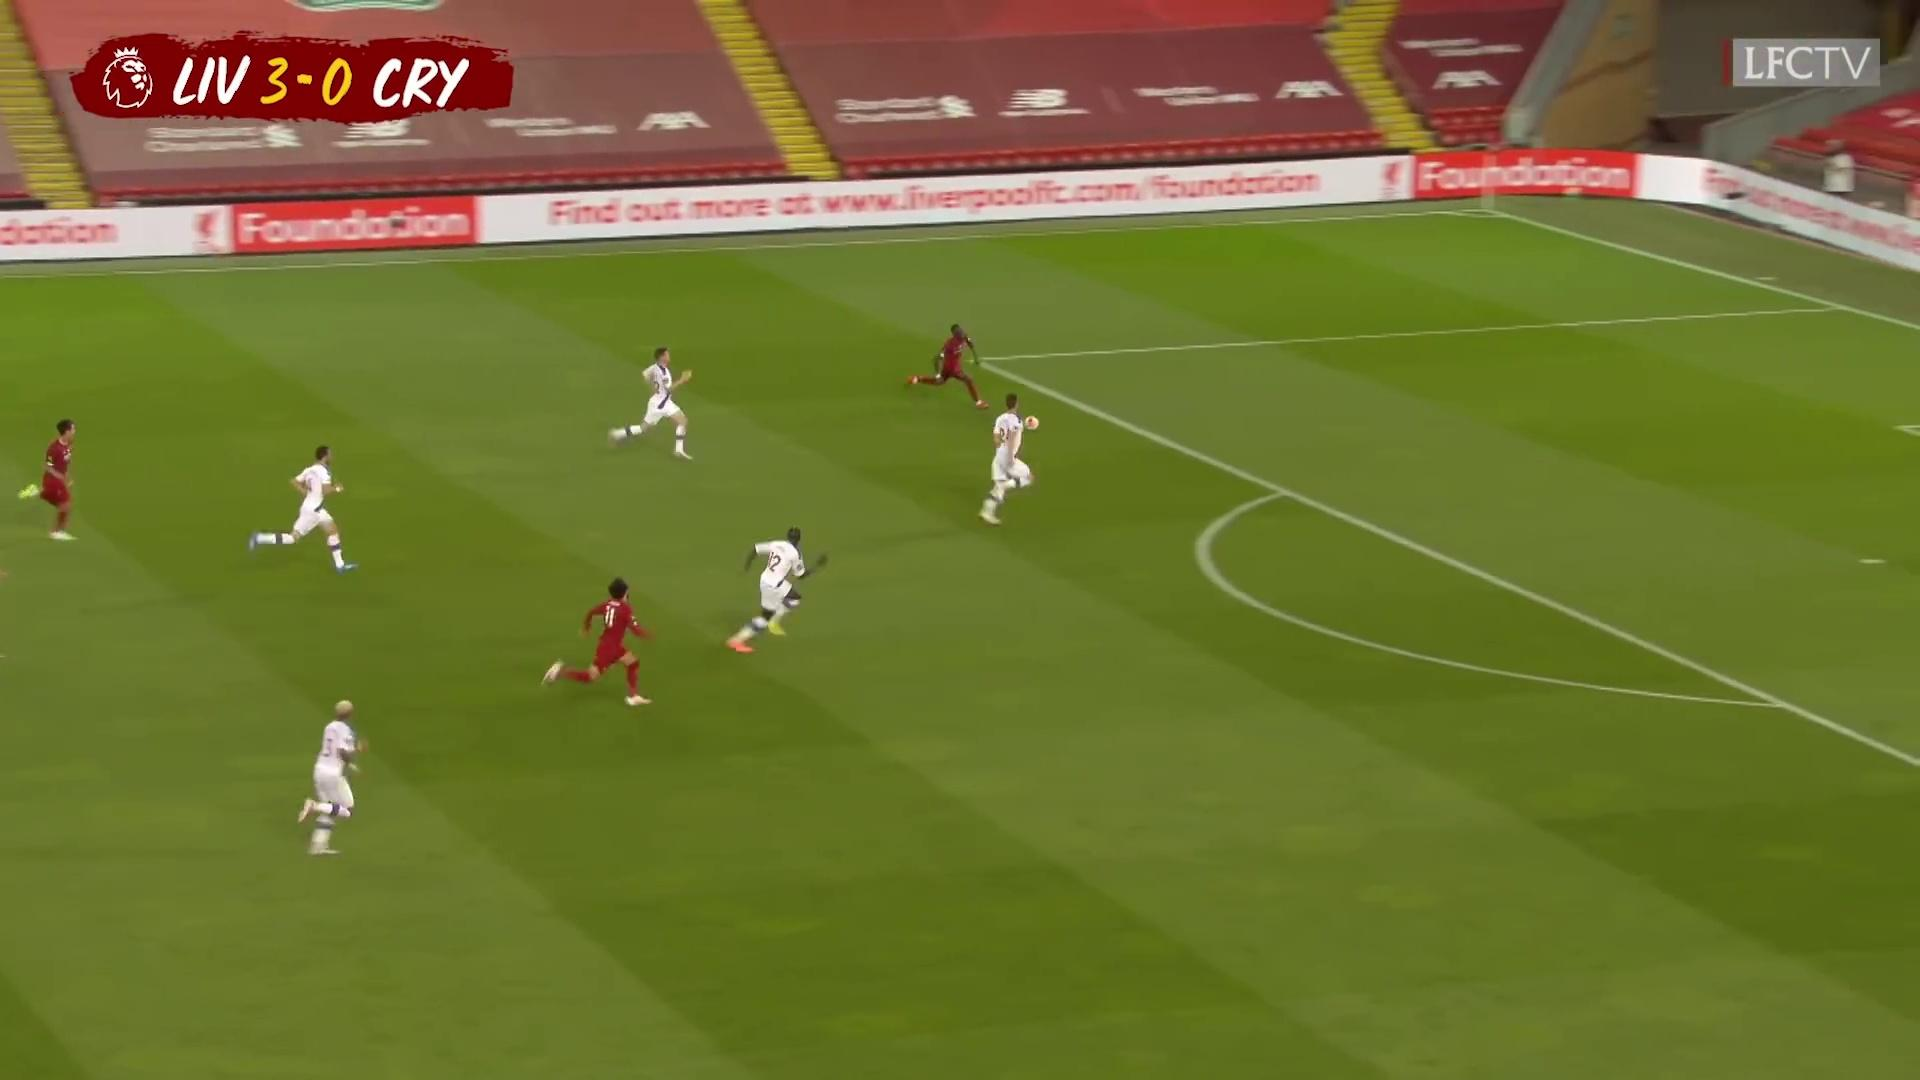ball: (1025, 414, 1039, 431)
